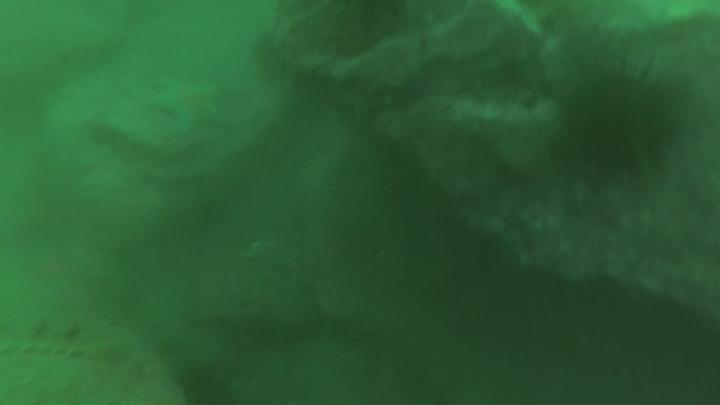echinus: (573, 74, 673, 179)
starfish: (151, 81, 227, 136)
